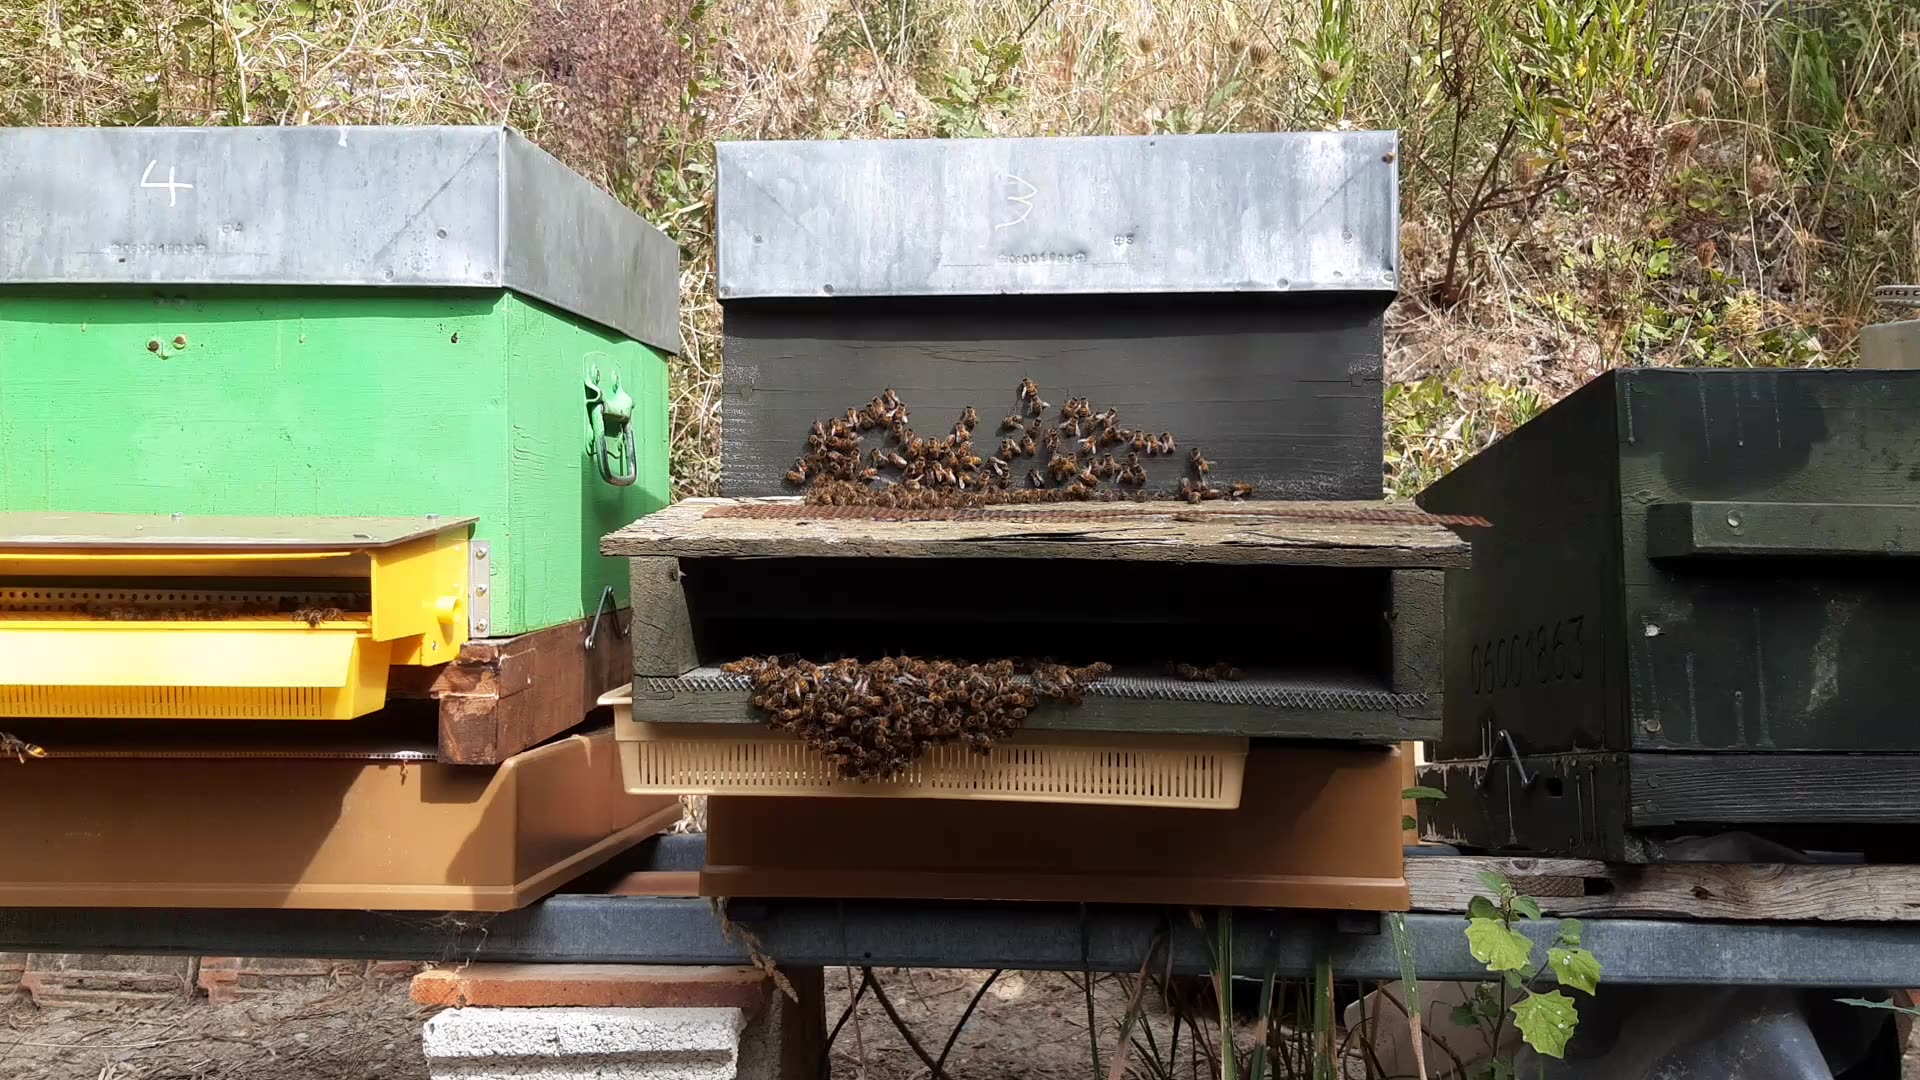bee: (828, 673, 920, 769), (924, 688, 992, 766), (1155, 448, 1232, 512), (824, 402, 910, 458), (728, 675, 796, 742), (1031, 666, 1126, 705), (1011, 462, 1077, 514), (818, 462, 880, 516), (936, 465, 1002, 513), (1018, 396, 1077, 446), (957, 411, 1021, 454)
